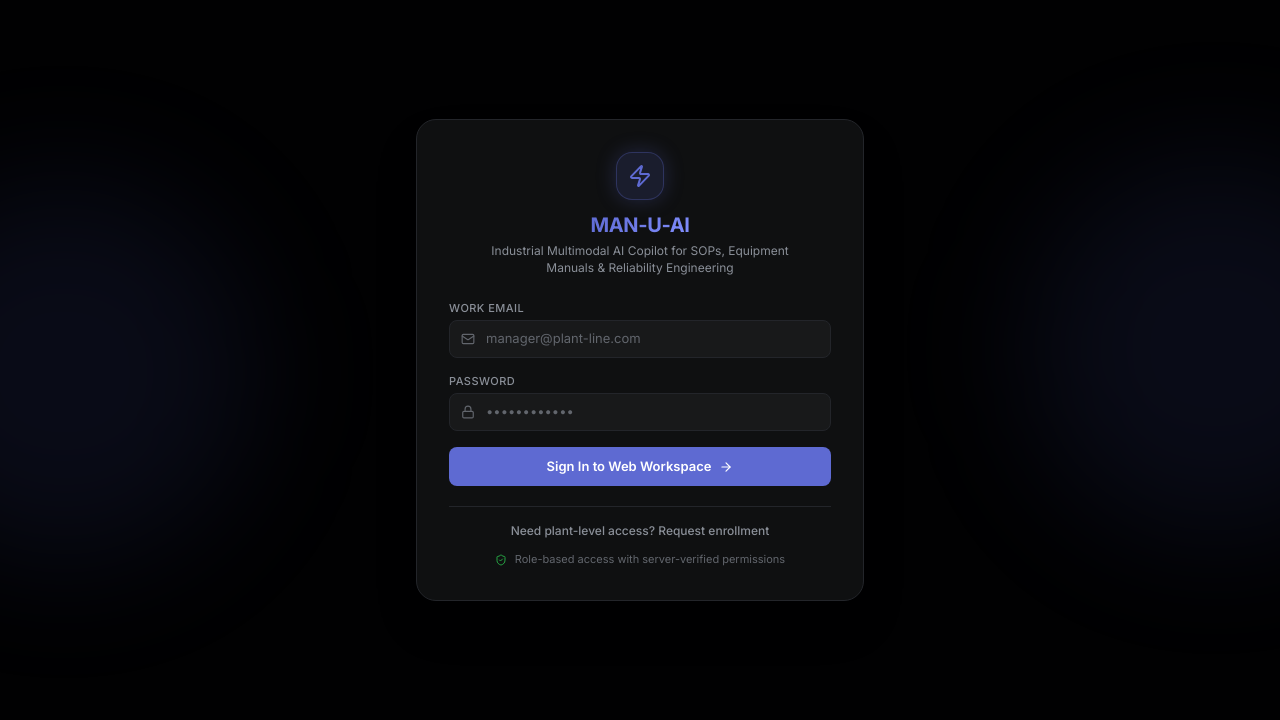
Test: Stage 5.2 — LoginPage Quick Demo & Provisioning UI › displays server error message when self-registration is rejected with 403 REGISTRATION_RESTRICTED
Step 1. Click the button "Need plant-level access? Request enrollment" → (640, 532), box [511,523,769,540]
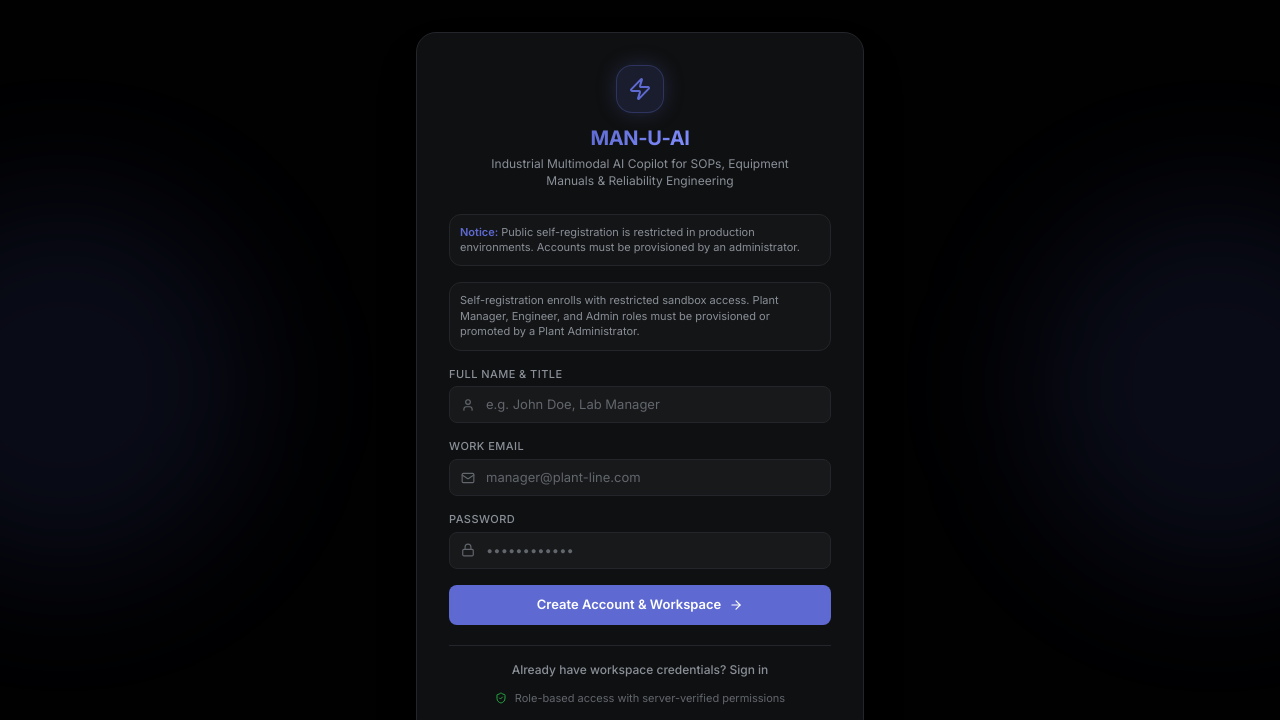
Check: the text "Public self-registration is restricted in production environments" is shown, box [460,225,800,254]
Step 2. Type "John Doe" into the field with placeholder "e.g. John Doe, Lab Manager" → (640, 405), box [449,386,831,423]
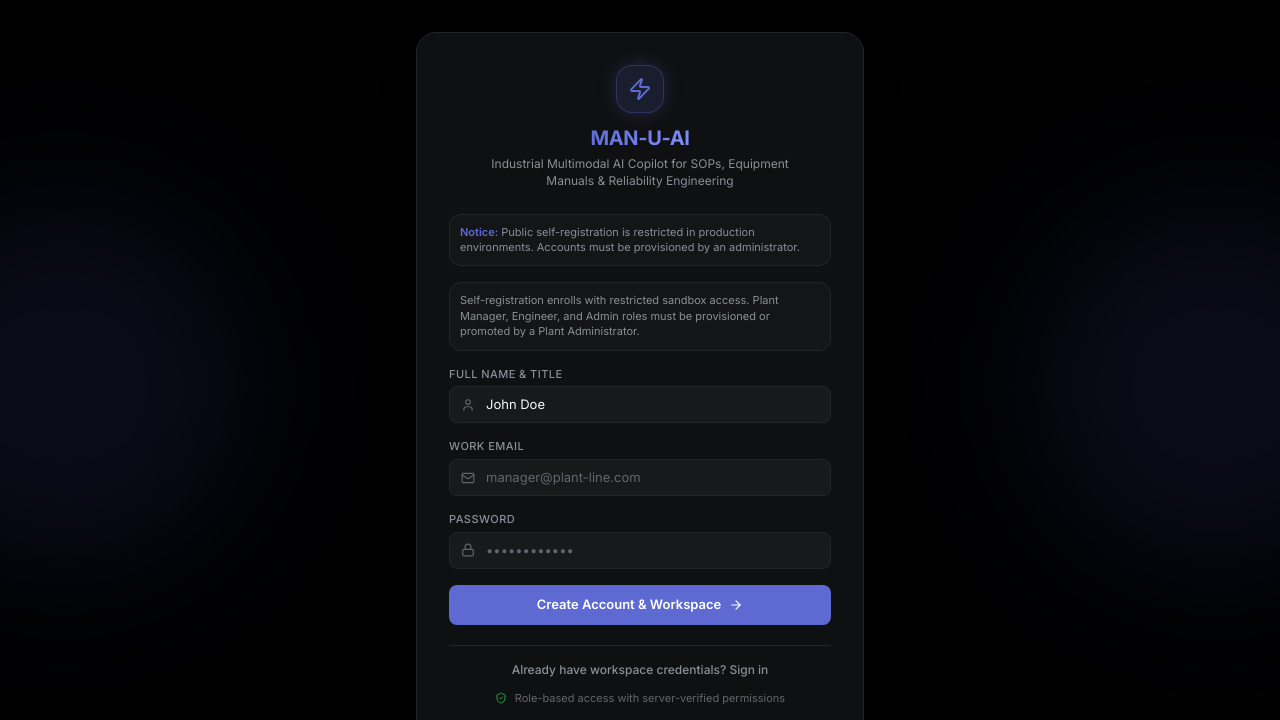
Step 3. Type "john.doe@plant.io" into the field with placeholder "manager@plant-line.com" → (640, 478), box [449,459,831,496]
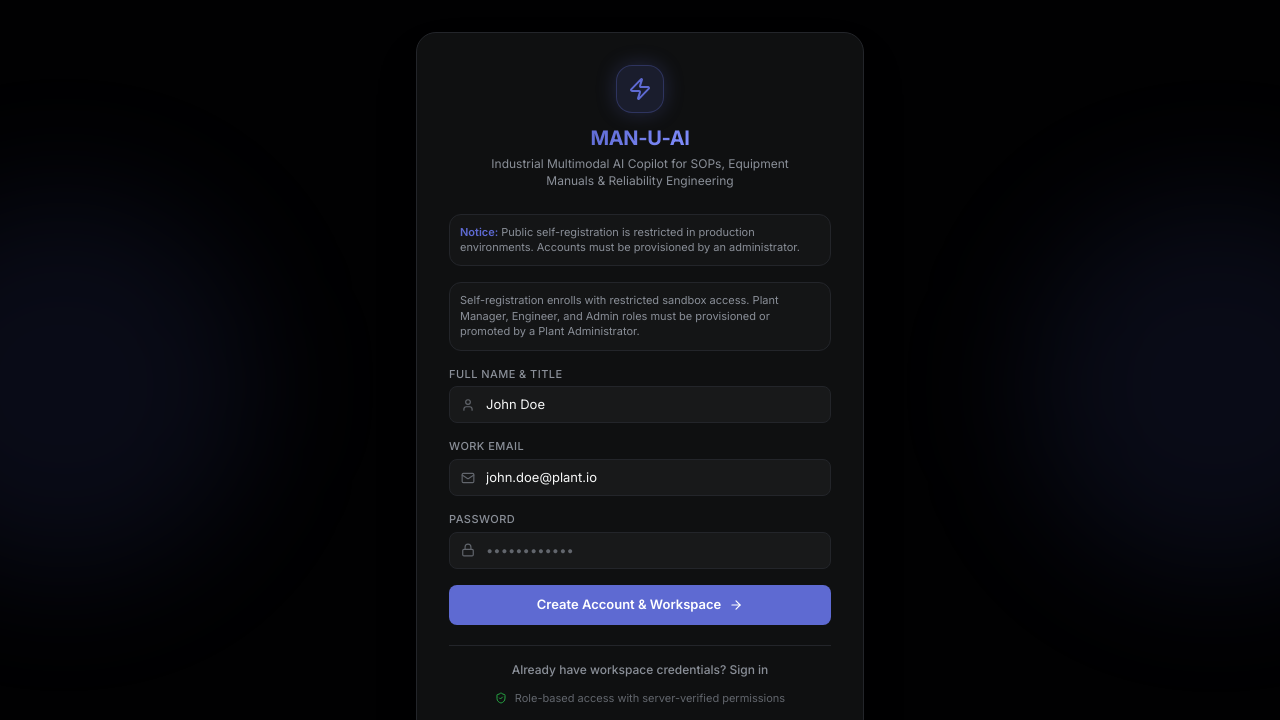
Step 4. Type "Password123!" into the password field with placeholder "••••••••••••" → (640, 550), box [449,532,831,569]
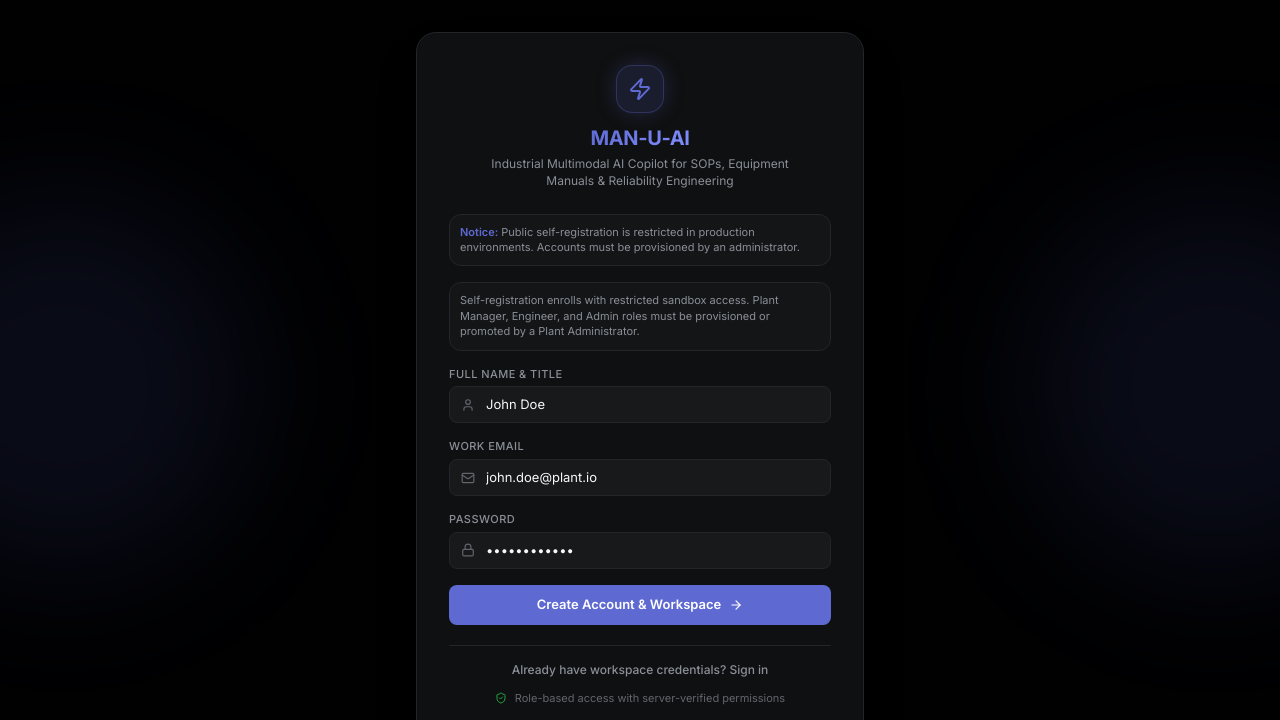
Step 5. Click the button "Create Account & Workspace" → (640, 605), box [449,585,831,625]
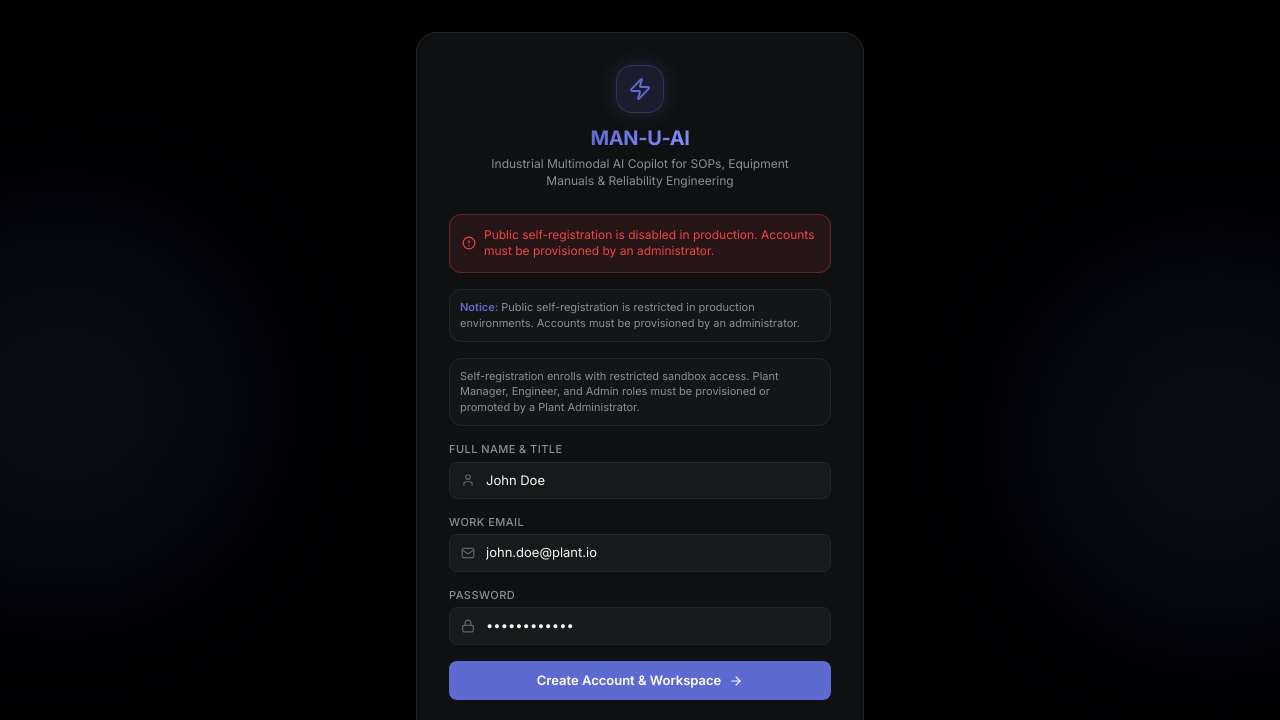
Check: the text "Public self-registration is disabled in production. Accounts must be provisioned by an administrator." is shown, box [484,227,814,258]
